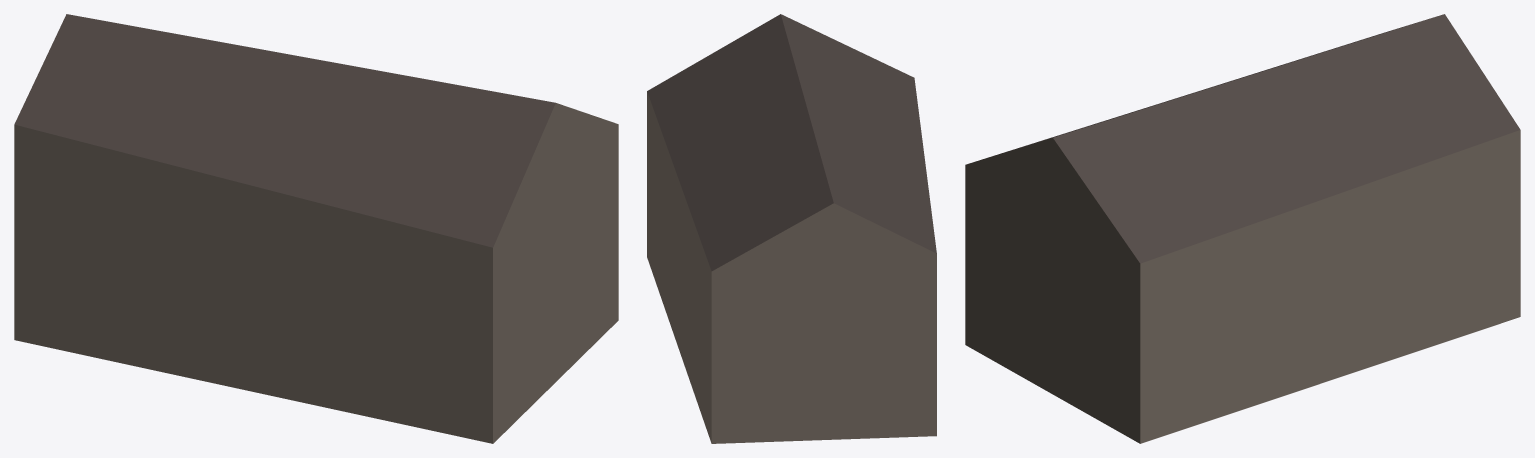
3 views of the same model, side by side, from view 1: azimuth 30°, elevation 25°; view 2: azimuth 150°, elevation 25°; view 3: azimuth 270°, elevation 25° (orthographic). The views are drawn at different scales.
Visible parts, largest first — view 1: HP-w1516161932; view 2: HP-w1516161932; view 3: HP-w1516161932.
Part boxes in pixels (bbox=[...]): HP-w1516161932: bbox=[14, 14, 618, 443]; HP-w1516161932: bbox=[647, 14, 936, 443]; HP-w1516161932: bbox=[965, 14, 1520, 443].
Size of the model in its own units: 22.73 by 12.82 by 25.12.
